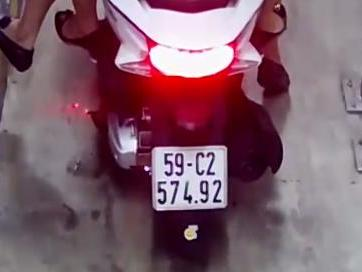num_plate: (151, 143, 229, 211)
